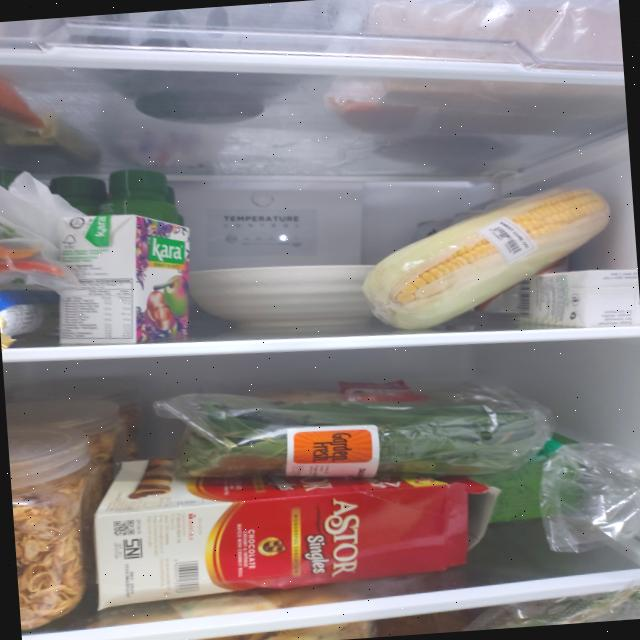chili: (0, 212, 65, 282)
coconut_milk: (50, 208, 196, 350)
corn: (355, 180, 619, 334)
leafy_greens: (170, 380, 540, 496)
